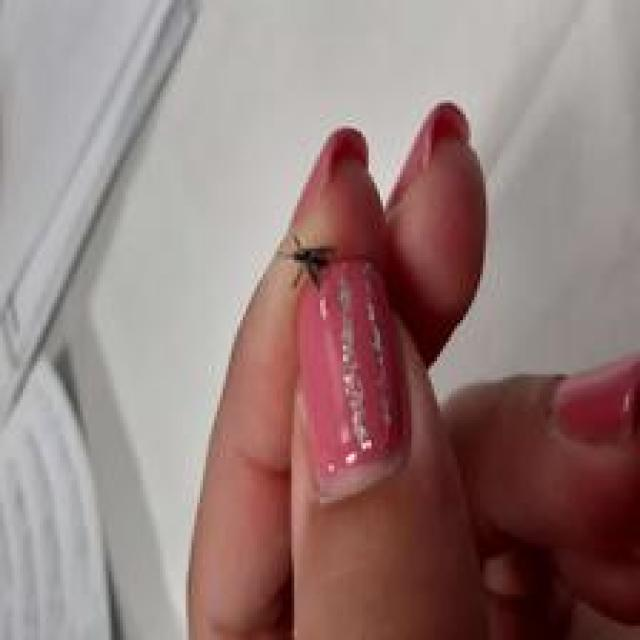Aedes albopictus: (278, 232, 336, 292)
